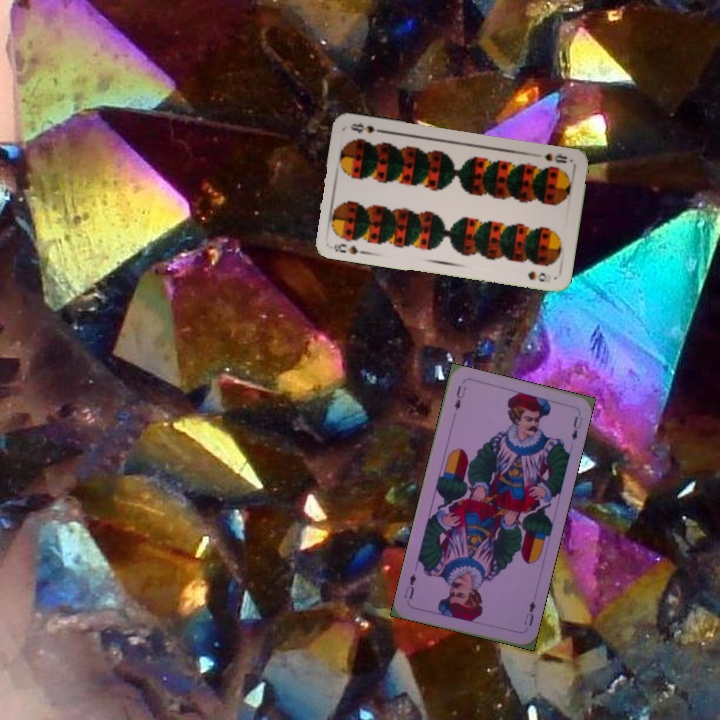EU: (519, 597, 538, 629), (450, 381, 469, 412)
S8: (330, 239, 369, 257), (540, 149, 570, 166)
